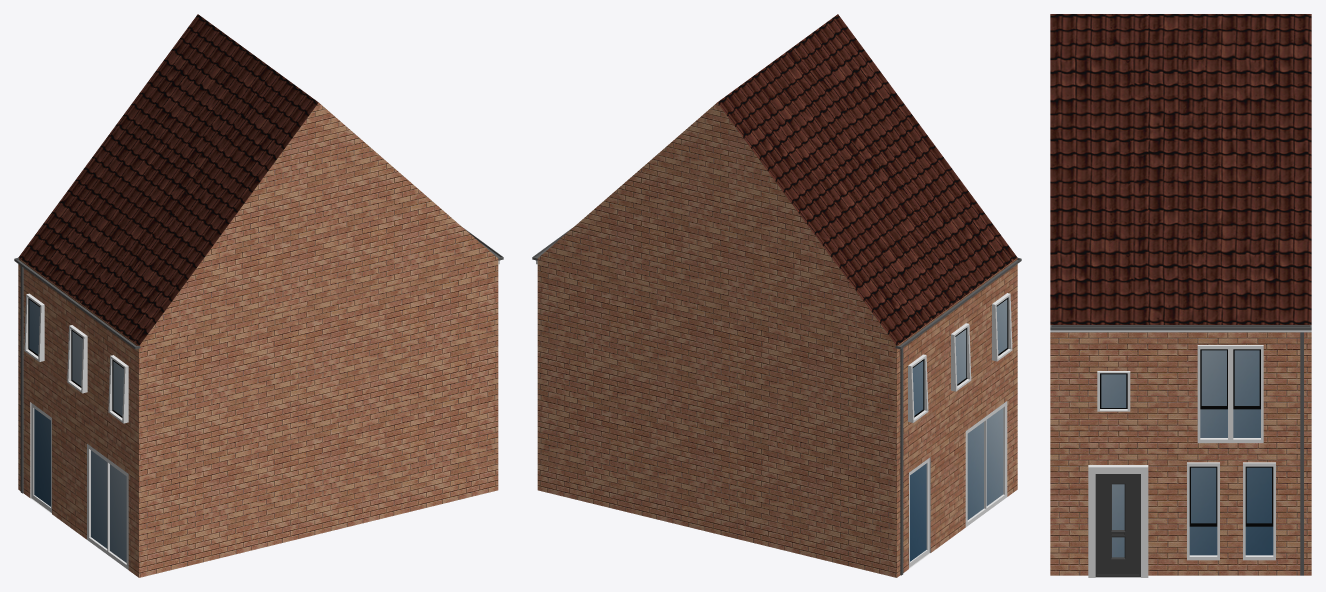
The model's file is Woning_39723_A2.fbx.
3 views of the same model, side by side, from view 1: azimuth 30°, elevation 25°; view 2: azimuth 150°, elevation 25°; view 3: azimuth 270°, elevation 25° (orthographic). The views are drawn at different scales.
Parts seen in each view (by area): view 1: Woning_39723_A2; view 2: Woning_39723_A2; view 3: Woning_39723_A2.
Part boxes in pixels (left/top/right/bottom): Woning_39723_A2: left=14, top=14, right=503, bottom=577; Woning_39723_A2: left=532, top=14, right=1021, bottom=577; Woning_39723_A2: left=1050, top=14, right=1311, bottom=577.
Bounding box in the file's own units: 9.59 × 10.7 × 5.43.
